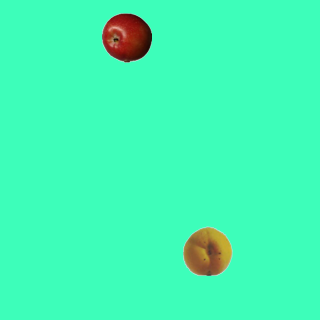Apple Braeburn: (101, 12, 151, 62)
Peach 2: (182, 225, 232, 275)
